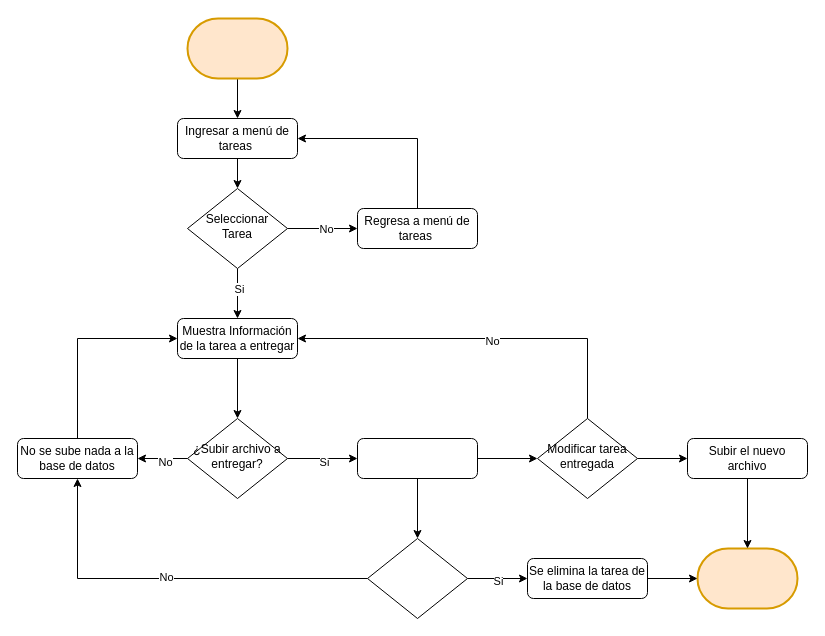
The diagram is 825 pixels wide and 636 high, and some of its shapes have lost their labels. The shapes that lost their labels are listed below. From the top down, each one's centre as x and y in pixels, then its label:
(x=237, y=48): Inicio
(x=417, y=458): Se guarda la entrega en la base de datos
(x=417, y=578): Eliminar la tarea entregada
(x=747, y=578): Fin
